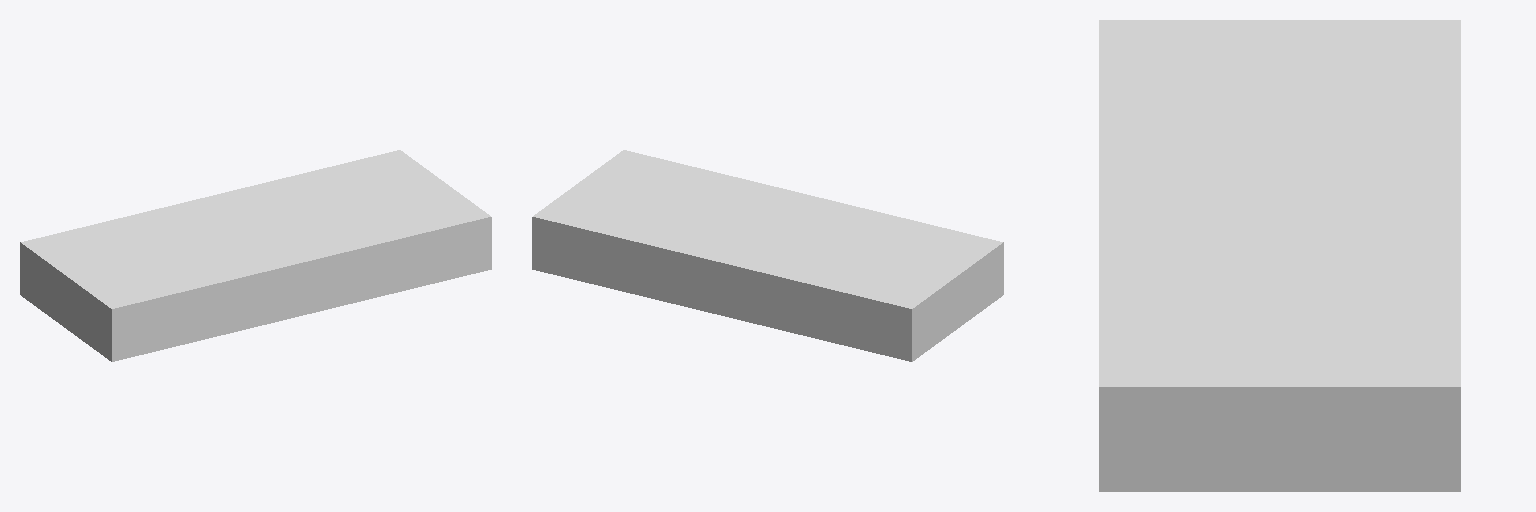
URDF robot description (table):
<?xml version="1.0" ?>

<robot name="table">
    <material name="White">
        <color rgba="0.93 0.93 0.93 1"/>
    </material>
    <!-- table -->
    <link name="table">
        <contact>
            <lateral_friction value="0.002"/>
        </contact>
        <inertial>
            <origin rpy="0 0 0" xyz="0 0 0"/>
            <mass value="0"/>
            <inertia ixx="0.1" ixy="0" ixz="0" iyy="0.1" iyz="0" izz="0.1"/>
        </inertial>
        <visual>
            <origin rpy="0 0 0" xyz="0 0 0"/>
            <geometry>
                <box size="1.2 0.5 0.16"/>
            </geometry>
            <material name="White"/>
        </visual>
        <collision>
            <origin rpy="0 0 0" xyz="0 0 0"/>
            <geometry>
                <box size="1.2 0.5 0.16"/>
            </geometry>
        </collision>
    </link>
</robot>

--- Facts derived from the render (not from the file) ---
The picture shows the robot from 3 angles, left to right: view 1: azimuth 30°, elevation 25°; view 2: azimuth 150°, elevation 25°; view 3: azimuth 270°, elevation 25°; orthographic projection.
Robot: table — 1 links, 0 joints (none); root link table; default pose: all joints at 0.
Links seen in each view (by area): view 1: table; view 2: table; view 3: table.
Link boxes in pixels (<box>): table: <box>20,150,491,361</box>; table: <box>532,150,1003,361</box>; table: <box>1099,20,1460,491</box>.
Bounding box of the posed robot: 1.2 × 0.5 × 0.16 m (x, y, z).
Geometry: primitives only (box / cylinder / sphere), no mesh files.